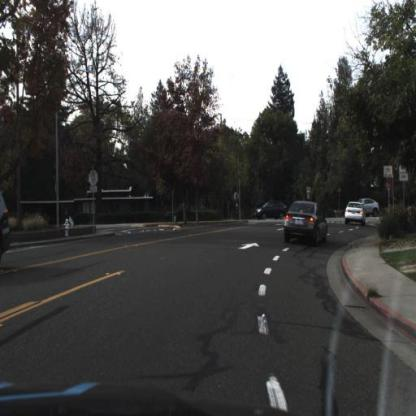car: (285, 202, 329, 248), (342, 200, 367, 229), (256, 199, 287, 221)
